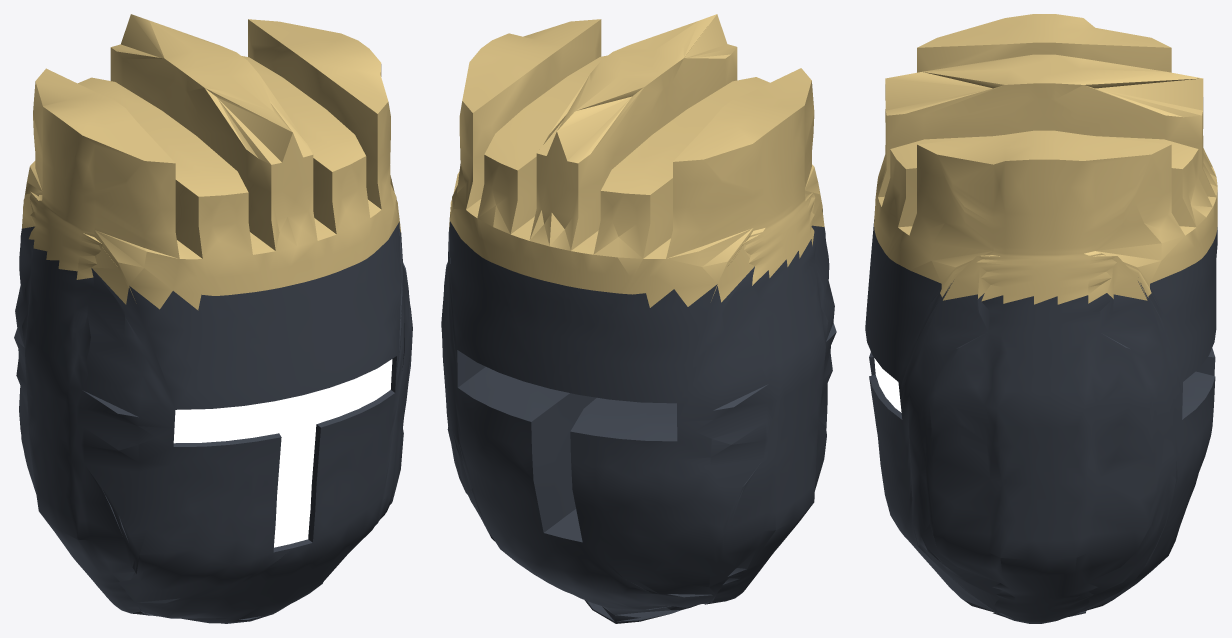
File: sentinel.glb
The picture shows the model from 3 angles, left to right: view 1: azimuth 30°, elevation 25°; view 2: azimuth 150°, elevation 25°; view 3: azimuth 270°, elevation 25°; orthographic projection.
Visible parts, largest first — view 1: helm, trim, visor; view 2: helm, trim; view 3: helm, trim, visor.
Part boxes in pixels (left/top/right/bottom): helm: left=14, top=222, right=412, bottom=623; trim: left=22, top=14, right=401, bottom=310; visor: left=173, top=359, right=392, bottom=547; helm: left=441, top=209, right=836, bottom=623; trim: left=449, top=14, right=824, bottom=307; helm: left=865, top=219, right=1217, bottom=623; trim: left=874, top=14, right=1217, bottom=304; visor: left=874, top=358, right=901, bottom=412.
Size of the model in its own units: 0.6677 by 1.04 by 0.6131.
